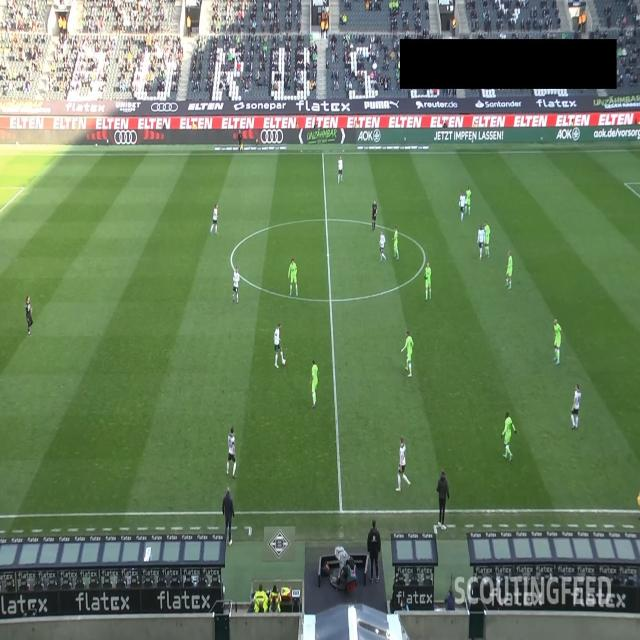ball: (282, 359, 285, 365)
